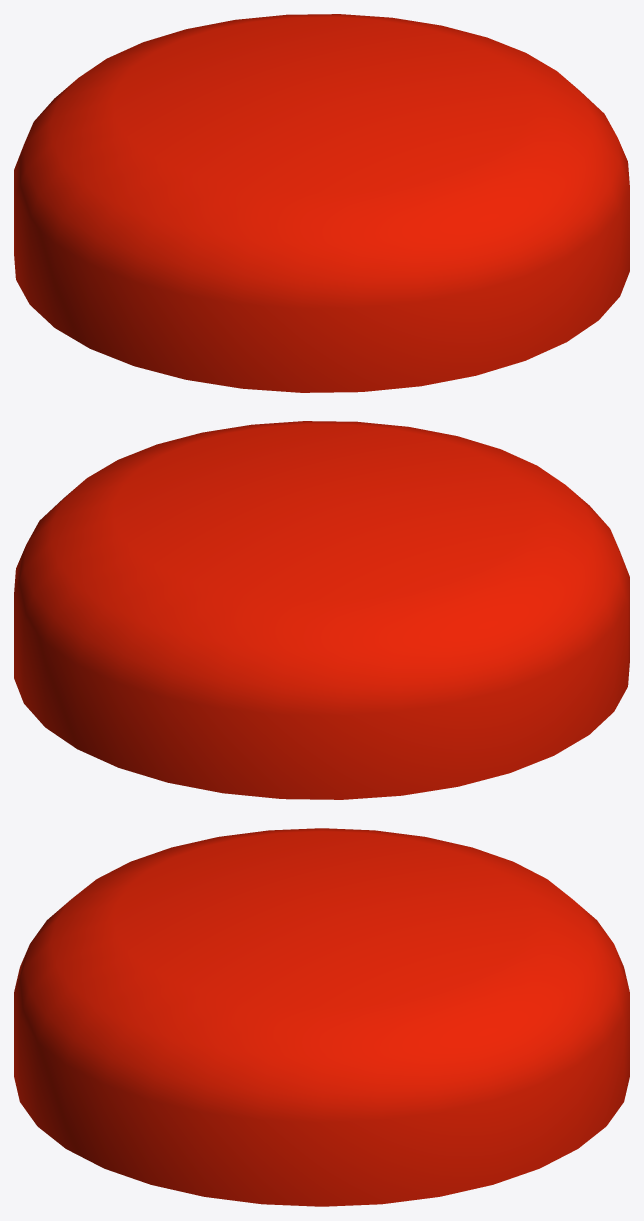
The model's file is button.fbx.
The picture shows the model from 3 angles, top to bottom: view 1: azimuth 30°, elevation 25°; view 2: azimuth 150°, elevation 25°; view 3: azimuth 270°, elevation 25°; orthographic projection.
Parts seen in each view (by area): view 1: Circle; view 2: Circle; view 3: Circle.
Part boxes in pixels (left/top/right/bottom): Circle: left=14, top=14, right=629, bottom=392; Circle: left=14, top=421, right=629, bottom=799; Circle: left=14, top=828, right=629, bottom=1206.
Size of the model in its own units: 102 by 30.5 by 102.
